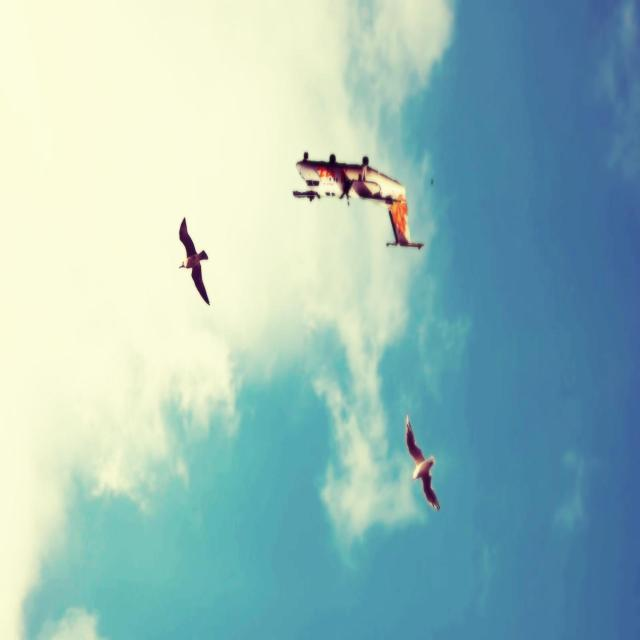airplane: (292, 151, 424, 250)
